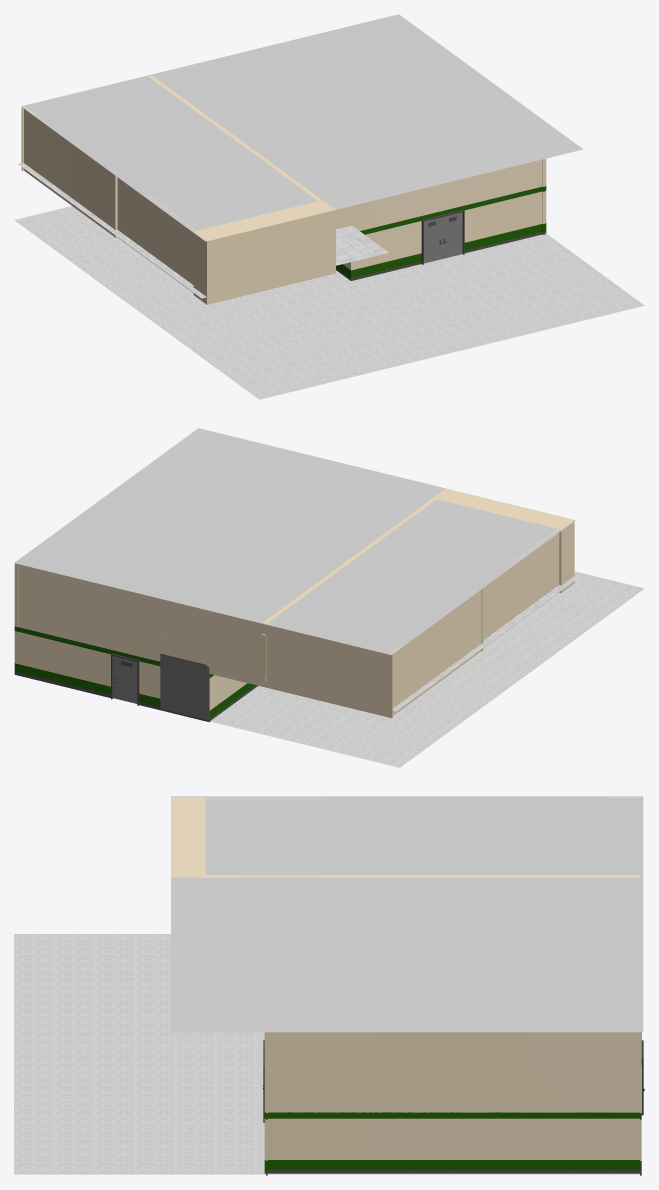
File: block_office.fbx
3 renders of one model, top to bottom at view 1: azimuth 30°, elevation 25°; view 2: azimuth 150°, elevation 25°; view 3: azimuth 270°, elevation 25°, orthographic. The views are drawn at different scales.
Visible parts, largest first — view 1: tran, Sangach, block, Cuato02, Cuato01; view 2: tran, block, Sangach, Cuatang1; view 3: tran, block, Sangach.
Boxes of the visible parts, left/top/right/bottom form: tran: left=21, top=14, right=583, bottom=241; Sangach: left=14, top=206, right=644, bottom=399; block: left=18, top=75, right=546, bottom=304; Cuato02: left=442, top=212, right=462, bottom=258; Cuato01: left=424, top=217, right=442, bottom=263; tran: left=14, top=428, right=575, bottom=654; block: left=14, top=488, right=579, bottom=722; Sangach: left=210, top=571, right=644, bottom=767; Cuatang1: left=112, top=656, right=137, bottom=703; tran: left=171, top=796, right=643, bottom=1032; block: left=171, top=797, right=643, bottom=1175; Sangach: left=14, top=934, right=639, bottom=1174.
Size of the model in its own units: 2891 by 805 by 3204.
Materials: 3 (3 with a texture image).
